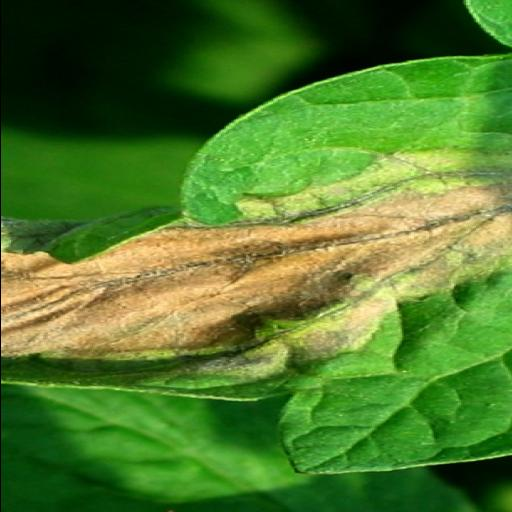Late Blight: (5, 51, 505, 496)
